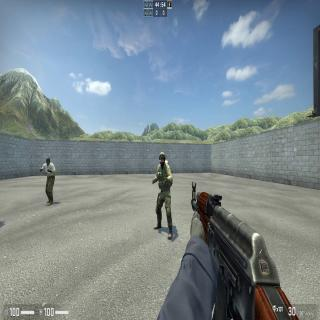CT-Body: (154, 152, 172, 234)
CT-Head: (158, 153, 166, 166)
T-Body: (44, 157, 55, 204)
T-Head: (46, 157, 50, 166)
